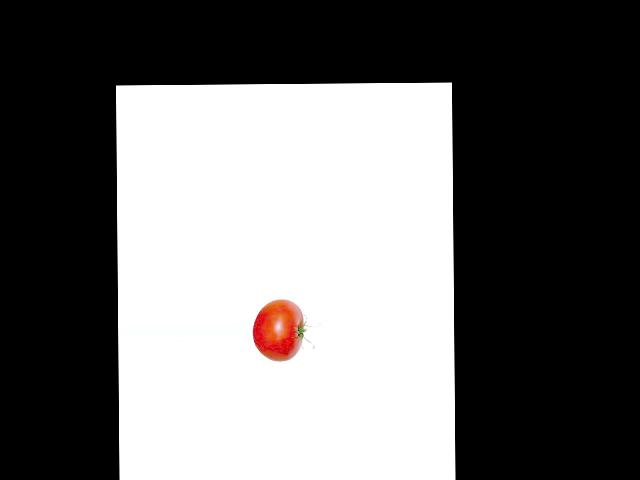tomato: (252, 299, 303, 361)
